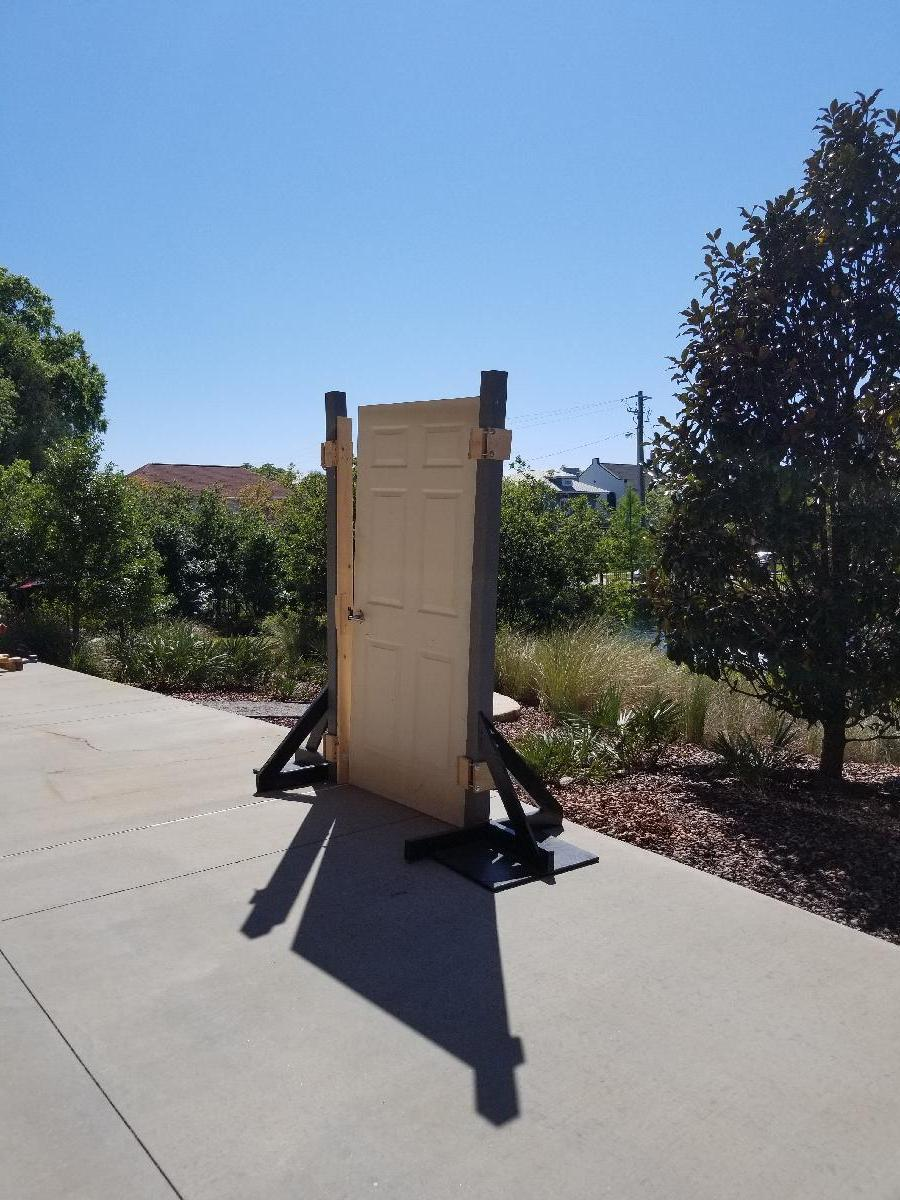door: (346, 396, 480, 809)
handle: (346, 605, 364, 626)
